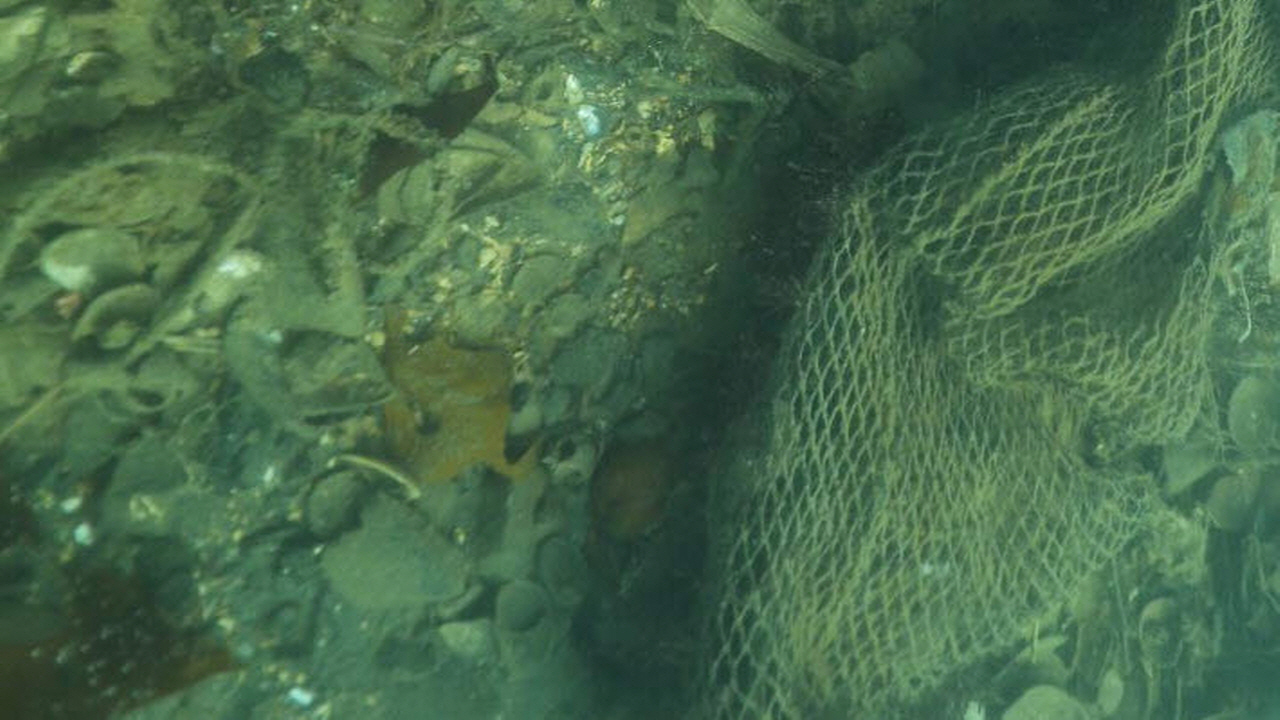fish net: (698, 0, 1280, 720)
